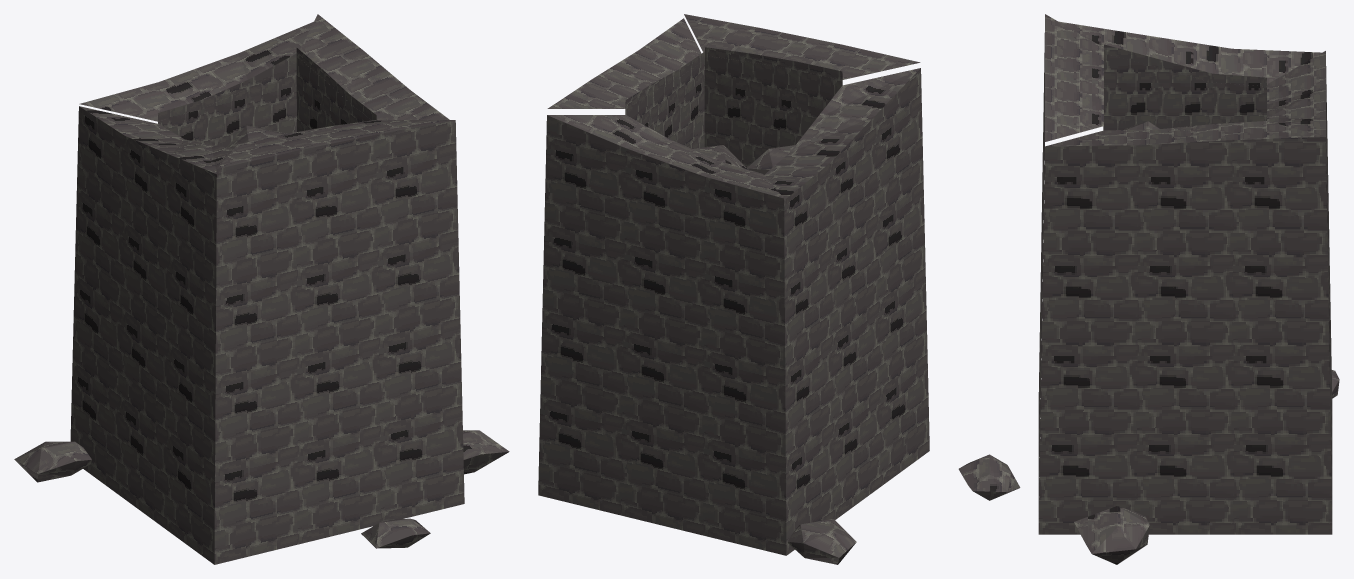
File: tower_ruined.glb
The picture shows the model from 3 angles, left to right: view 1: azimuth 30°, elevation 25°; view 2: azimuth 150°, elevation 25°; view 3: azimuth 270°, elevation 25°; orthographic projection. The views are drawn at different scales.
Visible parts, largest first — view 1: tower_ruined; view 2: tower_ruined; view 3: tower_ruined.
Boxes of the visible parts, x1=… form: tower_ruined: x1=14, y1=14, x2=509, y2=564; tower_ruined: x1=538, y1=14, x2=929, y2=564; tower_ruined: x1=958, y1=14, x2=1339, y2=564.
Size of the model in its own units: 4.51 by 4.57 by 3.89.
Materials: 1 (1 with a texture image).
